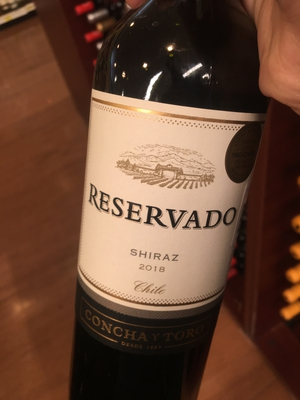reservado shiraz: (72, 19, 258, 400)
